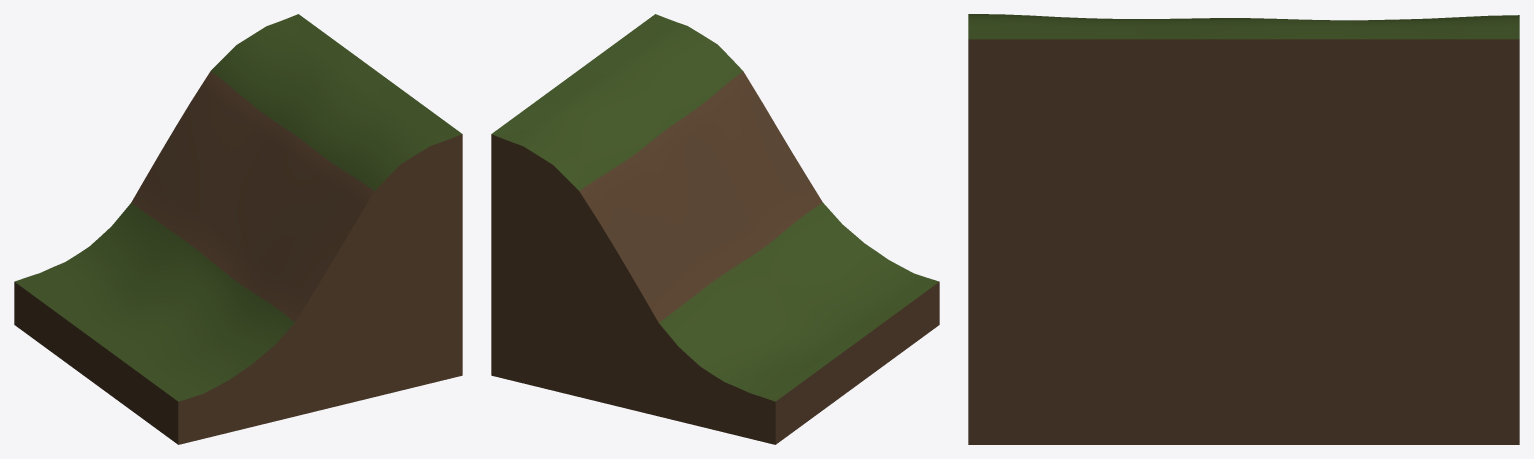
3 views of the same model, side by side, from view 1: azimuth 30°, elevation 25°; view 2: azimuth 150°, elevation 25°; view 3: azimuth 270°, elevation 25° (orthographic). The views are drawn at different scales.
Visible parts, largest first — view 1: c3go; view 2: c3go; view 3: c3go.
Boxes of the visible parts, <box> form: c3go: <box>14,14,462,444</box>; c3go: <box>491,14,939,444</box>; c3go: <box>968,14,1519,444</box>.
Bounding box in the file's own units: 9 × 7.31 × 9.
